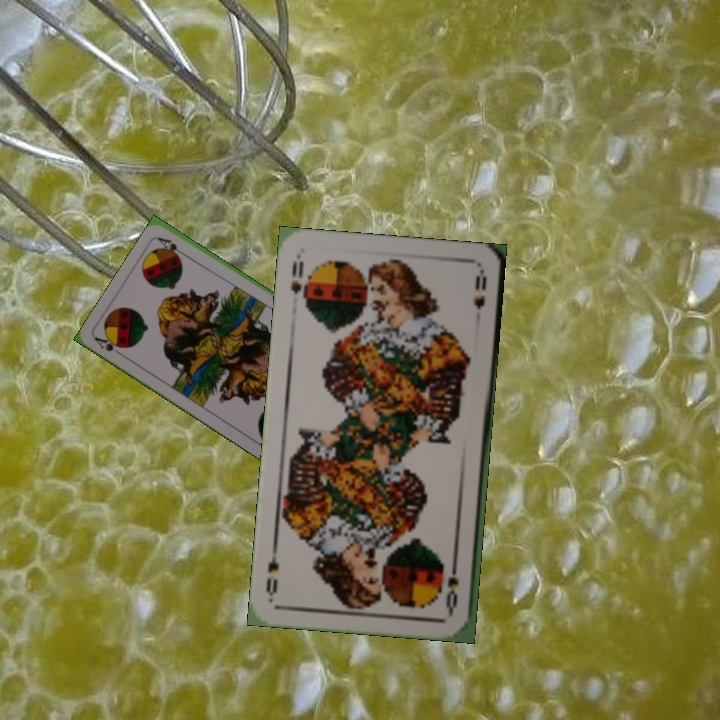SA: (91, 332, 128, 360)
SO: (286, 252, 309, 301), (442, 556, 461, 615)
